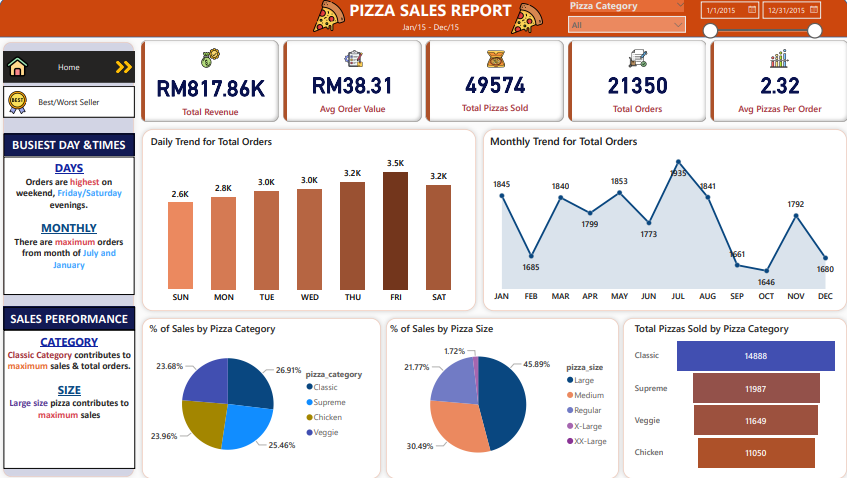

Layout of this report page (visuals, bound fields, positions):
{"tool":"powerbi","page":{"name":"Home","canvas":[1500,820],"ordinal":0},"visuals":[{"type":"shape","box":[68.3,70,230,731.7],"z":0},{"type":"cardVisual","fields":{"Data":["pizzadb pizza_sales.Total Revenue","pizzadb pizza_sales.Avg Order Value","pizzadb pizza_sales.Total Pizzas Sold","pizzadb pizza_sales.Total Orders","pizzadb pizza_sales.Avg Pizzas Per Order"]},"box":[298.2,70.2,1177.2,143.9],"z":1000},{"type":"slicer","fields":{"Values":["pizzadb pizza_sales.order_date"]},"box":[1213.9,0,221.7,91.7],"z":2000,"group":"g7"},{"type":"shape","box":[68.6,2.9,1401.4,65.7],"z":2000},{"type":"textbox","box":[76,228,216.4,37.6],"z":2000,"group":"g8"},{"type":"textbox","box":[725,38.3,113.3,31.7],"z":3000},{"type":"slicer","fields":{"Values":["pizzadb pizza_sales.pizza_category"]},"box":[998.3,0.6,213.3,66.7],"z":4000},{"type":"textbox","box":[76,265.6,216.4,228.5],"z":4000,"group":"g8"},{"type":"textbox","box":[626.7,0,308.3,46.7],"z":5000},{"type":"image","box":[583.3,0,60,68.3],"z":6000},{"type":"shape","box":[298.2,214,564.3,314.2],"z":6000,"group":"g1"},{"type":"shape","box":[298.3,525,406.7,280],"z":6000,"group":"g5"},{"type":"image","box":[910,3.3,60,68.3],"z":7000},{"type":"columnChart","title":"Daily Trend for Total Orders","fields":{"Category":["pizzadb pizza_sales.Order Day"],"Y":["pizzadb pizza_sales.Total Orders"]},"box":[314.3,230.3,535.7,285.3],"z":7000,"group":"g1"},{"type":"shape","box":[700,525,398.3,280],"z":7000,"group":"g4"},{"type":"group","id":"g1","title":"Group 1","box":[298.2,214,563.2,314],"z":8000},{"type":"shape","box":[861.4,214,614.3,314.2],"z":8000,"group":"g2"},{"type":"donutChart","title":"% of Sales by Pizza Category","fields":{"Category":["pizzadb pizza_sales.pizza_category"],"Y":["pizzadb pizza_sales.Total Revenue"]},"box":[312.2,539.5,377.1,249.3],"z":8000,"group":"g5"},{"type":"group","id":"g2","title":"Group 2","box":[861.4,214,614,314],"z":9000},{"type":"areaChart","title":"Monthly Trend for Total Orders","fields":{"Y":["pizzadb pizza_sales.Total Orders"],"Category":["pizzadb pizza_sales.Order Month"]},"box":[873.9,228.4,583.9,285.3],"z":9000,"group":"g2"},{"type":"donutChart","title":"% of Sales by Pizza Size","fields":{"Y":["pizzadb pizza_sales.Total Revenue"],"Category":["pizzadb pizza_sales.pizza_size"]},"box":[708.8,539.5,380.8,251.1],"z":9000,"group":"g4"},{"type":"group","id":"g3","title":"Group 3","box":[1091.7,525,383.3,280],"z":10000},{"type":"group","id":"g4","title":"Group 4","box":[700,525,398.3,280],"z":11000},{"type":"textbox","box":[76,514,216.7,37.7],"z":12000,"group":"g6"},{"type":"group","id":"g5","title":"Group 5","box":[298.3,525,406.7,280],"z":12000},{"type":"shape","box":[1091.7,525,383.3,280],"z":12000,"group":"g3"},{"type":"group","id":"g6","title":"Group 6","box":[76,514,216,266],"z":13000},{"type":"textbox","box":[76,551.7,216.7,229],"z":13000,"group":"g6"},{"type":"group","id":"g7","title":"Group 6","box":[1213.9,0,221.7,91.7],"z":14000},{"type":"funnel","title":"Total Pizzas Sold by Pizza Category ","fields":{"Category":["pizzadb pizza_sales.pizza_category"],"Y":["pizzadb pizza_sales.Total Pizzas Sold"]},"box":[1112.7,539.5,344.8,249.3],"z":14001,"group":"g3"},{"type":"pageNavigator","box":[75.6,91.9,216.3,51.2],"z":15000},{"type":"pageNavigator","box":[75.6,150,216.3,51.2],"z":16000},{"type":"group","id":"g8","title":"Group 7","box":[76,228,216,266],"z":17000},{"type":"image","box":[76.1,136.4,45.5,78.4],"z":18000},{"type":"image","box":[76.1,78.4,45.5,76.1],"z":19000},{"type":"image","box":[256.8,84.1,35.2,65.9],"z":20000}]}

Visuals, with their boxes on the page's 1500x820 design canvas (x1, y1, x2, y2). These are canvas units, not pixel positions in the 847x478 screenshot, which may show the page scaled, cropped or inside an application window:
shape: [x1=68, y1=70, x2=298, y2=802]
cardVisual - pizzadb pizza_sales.Total Revenue x pizzadb pizza_sales.Avg Order Value: [x1=298, y1=70, x2=1475, y2=214]
slicer - pizzadb pizza_sales.order_date: [x1=1214, y1=0, x2=1436, y2=92]
shape: [x1=69, y1=3, x2=1470, y2=69]
textbox: [x1=76, y1=228, x2=292, y2=266]
textbox: [x1=725, y1=38, x2=838, y2=70]
slicer - pizzadb pizza_sales.pizza_category: [x1=998, y1=1, x2=1212, y2=67]
textbox: [x1=76, y1=266, x2=292, y2=494]
textbox: [x1=627, y1=0, x2=935, y2=47]
image: [x1=583, y1=0, x2=643, y2=68]
shape: [x1=298, y1=214, x2=862, y2=528]
shape: [x1=298, y1=525, x2=705, y2=805]
image: [x1=910, y1=3, x2=970, y2=72]
"Daily Trend for Total Orders" columnChart: [x1=314, y1=230, x2=850, y2=516]
shape: [x1=700, y1=525, x2=1098, y2=805]
"Group 1" group: [x1=298, y1=214, x2=861, y2=528]
shape: [x1=861, y1=214, x2=1476, y2=528]
"% of Sales by Pizza Category" donutChart: [x1=312, y1=540, x2=689, y2=789]
"Group 2" group: [x1=861, y1=214, x2=1475, y2=528]
"Monthly Trend for Total Orders" areaChart: [x1=874, y1=228, x2=1458, y2=514]
"% of Sales by Pizza Size" donutChart: [x1=709, y1=540, x2=1090, y2=791]
"Group 3" group: [x1=1092, y1=525, x2=1475, y2=805]
"Group 4" group: [x1=700, y1=525, x2=1098, y2=805]
textbox: [x1=76, y1=514, x2=293, y2=552]
"Group 5" group: [x1=298, y1=525, x2=705, y2=805]
shape: [x1=1092, y1=525, x2=1475, y2=805]
"Group 6" group: [x1=76, y1=514, x2=292, y2=780]
textbox: [x1=76, y1=552, x2=293, y2=781]
"Group 6" group: [x1=1214, y1=0, x2=1436, y2=92]
"Total Pizzas Sold by Pizza Category " funnel: [x1=1113, y1=540, x2=1458, y2=789]
pageNavigator: [x1=76, y1=92, x2=292, y2=143]
pageNavigator: [x1=76, y1=150, x2=292, y2=201]
"Group 7" group: [x1=76, y1=228, x2=292, y2=494]
image: [x1=76, y1=136, x2=122, y2=215]
image: [x1=76, y1=78, x2=122, y2=154]
image: [x1=257, y1=84, x2=292, y2=150]
